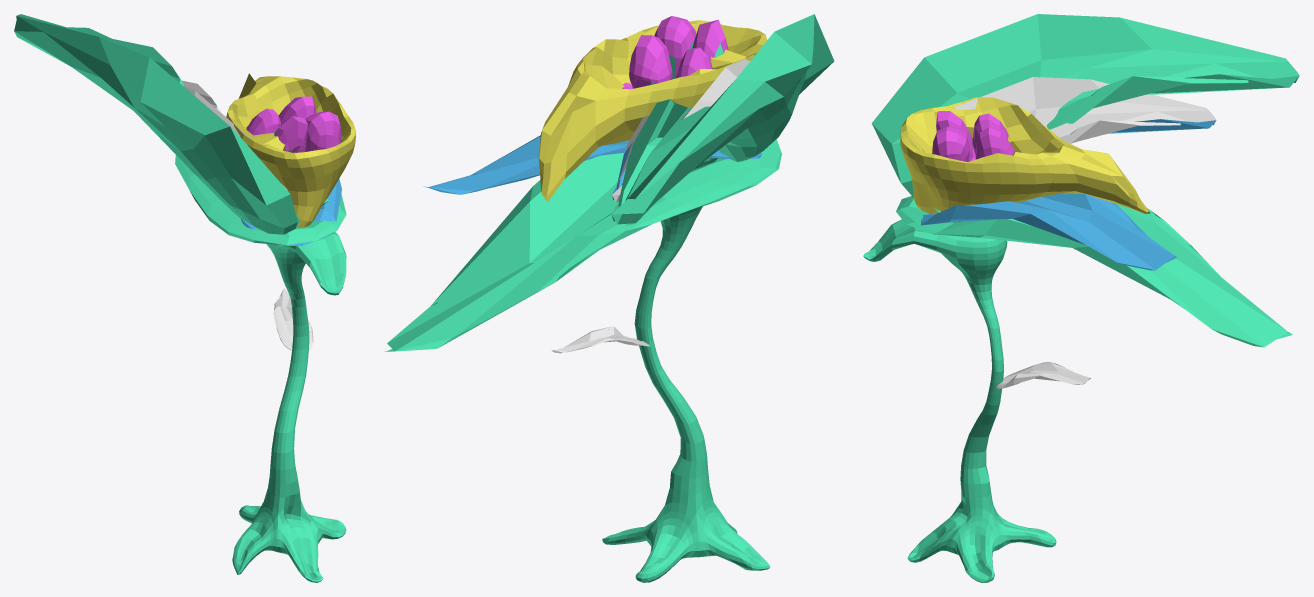
Rendered from tree1.glb.
The picture shows the model from 3 angles, left to right: view 1: azimuth 30°, elevation 25°; view 2: azimuth 150°, elevation 25°; view 3: azimuth 270°, elevation 25°; orthographic projection. The views are drawn at different scales.
Visible parts, largest first — view 1: Cube.003, Cube, Cube.001, Cube.002, Cube.007, Cube.006, Cube.004; view 2: Cube.002, Cube, Cube.003, Cube.001, Cube.006, Cube.004, Cube.007; view 3: Cube.003, Cube, Cube.001, Cube.002, Cube.006, Cube.004, Cube.007, Cube.005.
Boxes of the visible parts, bbox=[...] form: Cube.003: bbox=[14, 14, 300, 234]; Cube: bbox=[232, 96, 346, 582]; Cube.001: bbox=[226, 73, 355, 227]; Cube.002: bbox=[175, 155, 346, 245]; Cube.007: bbox=[273, 288, 313, 350]; Cube.006: bbox=[241, 179, 341, 245]; Cube.004: bbox=[182, 80, 287, 190]; Cube.002: bbox=[385, 139, 781, 351]; Cube: bbox=[602, 16, 770, 582]; Cube.003: bbox=[611, 14, 834, 224]; Cube.001: bbox=[538, 20, 767, 201]; Cube.006: bbox=[423, 135, 762, 194]; Cube.004: bbox=[612, 55, 753, 201]; Cube.007: bbox=[552, 326, 649, 353]; Cube.003: bbox=[871, 14, 1299, 197]; Cube: bbox=[863, 111, 1056, 582]; Cube.001: bbox=[900, 97, 1150, 214]; Cube.002: bbox=[896, 196, 1292, 347]; Cube.006: bbox=[921, 193, 1176, 270]; Cube.004: bbox=[953, 77, 1215, 143]; Cube.007: bbox=[996, 362, 1090, 388]; Cube.005: bbox=[1070, 119, 1216, 134].
Bounding box in the file's own units: 5.62 × 10.65 × 8.46.
